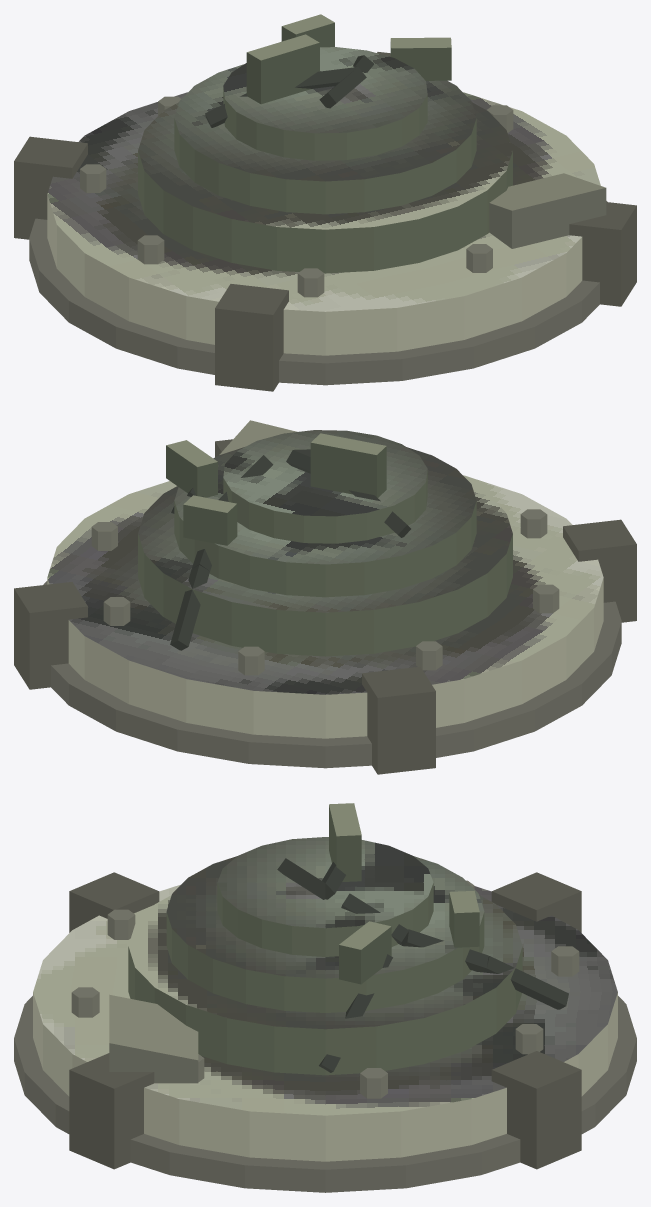
The model's file is Building_AncientMechDropBeacon__C.glb.
The picture shows the model from 3 angles, top to bottom: view 1: azimuth 30°, elevation 25°; view 2: azimuth 150°, elevation 25°; view 3: azimuth 270°, elevation 25°; orthographic projection. The views are drawn at different scales.
Visible parts, largest first — view 1: AncientMechDropBeacon__C; view 2: AncientMechDropBeacon__C; view 3: AncientMechDropBeacon__C.
Boxes of the visible parts, x1=… form: AncientMechDropBeacon__C: x1=14, y1=14, x2=636, y2=391; AncientMechDropBeacon__C: x1=14, y1=420, x2=636, y2=774; AncientMechDropBeacon__C: x1=14, y1=803, x2=636, y2=1192.
Size of the model in its own units: 0.98 by 0.39 by 0.98.
1 material, 1 textured.
